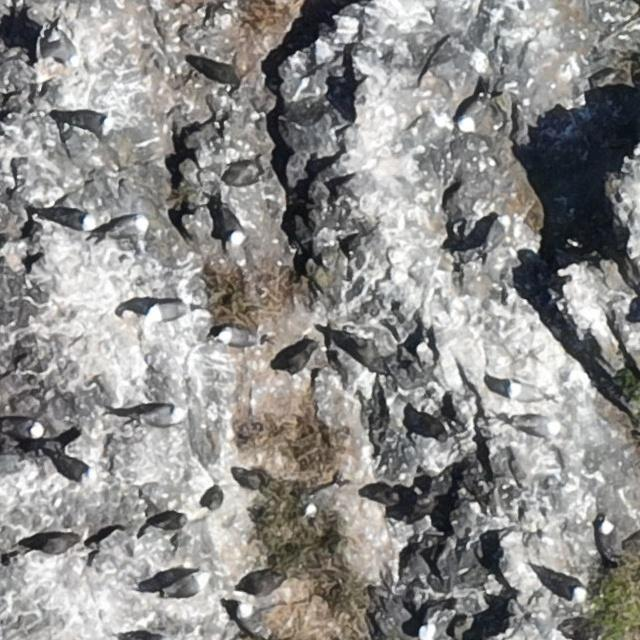umineko: (456, 94, 496, 132), (236, 602, 272, 638), (56, 455, 96, 486), (305, 481, 340, 516), (102, 215, 150, 240), (512, 414, 566, 436), (52, 27, 79, 70), (486, 214, 511, 254), (220, 206, 243, 246), (542, 576, 583, 598), (50, 212, 94, 232), (140, 405, 182, 425), (163, 574, 201, 596), (2, 418, 40, 438), (422, 618, 454, 640), (80, 115, 115, 134), (219, 329, 256, 346), (596, 522, 614, 556), (148, 303, 181, 320), (509, 382, 540, 400)
